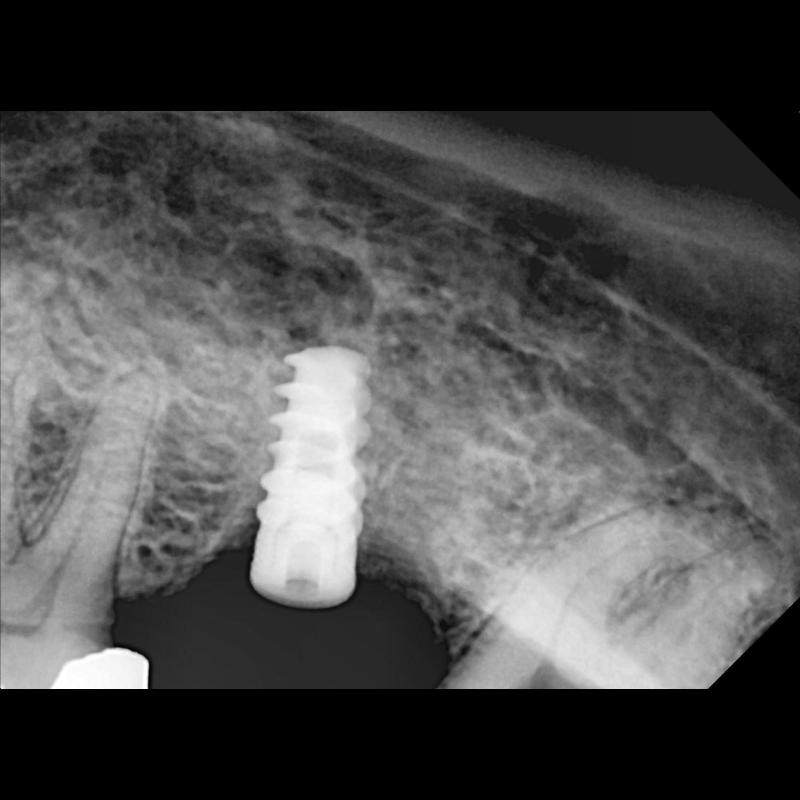NORIS: (249, 342, 376, 614)
